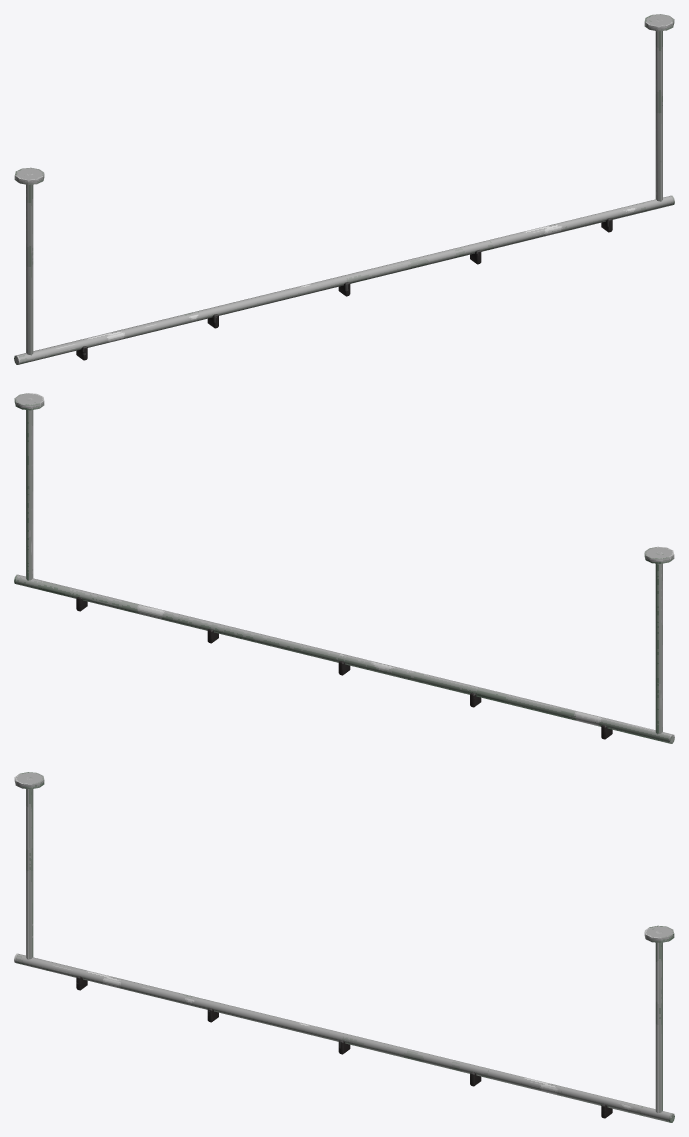
Rendered from hang_bar.glb.
3 views of the same model, one above another, from view 1: azimuth 30°, elevation 25°; view 2: azimuth 150°, elevation 25°; view 3: azimuth 330°, elevation 25° (orthographic).
Visible parts, largest first — view 1: mesh; view 2: mesh; view 3: mesh.
Part boxes in pixels (x1,y1,x2,y2): mesh: (14, 14, 674, 364); mesh: (14, 393, 674, 743); mesh: (14, 772, 674, 1122).
Bounding box in the file's own units: 1.5 × 0.43 × 0.0601.
1 material, 1 textured.
